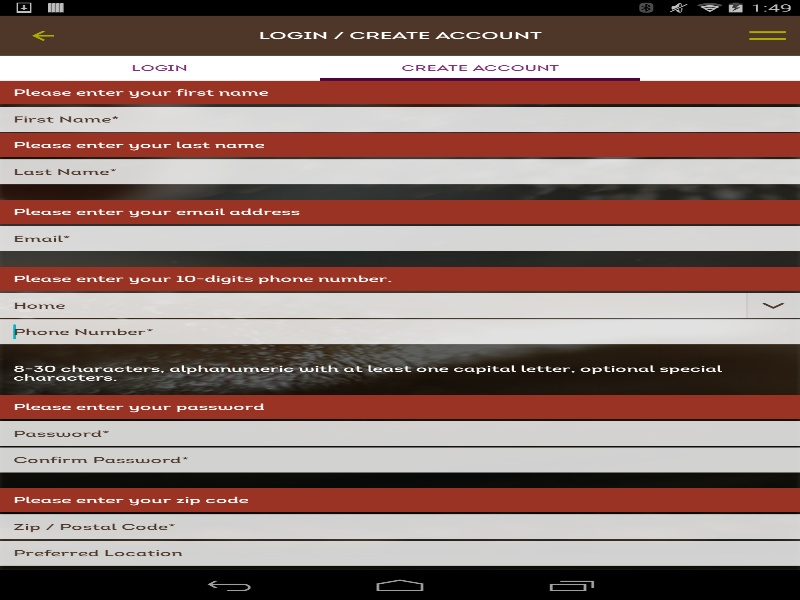Button: (0, 18, 74, 53)
Input: (0, 421, 800, 446), (0, 447, 800, 472)
